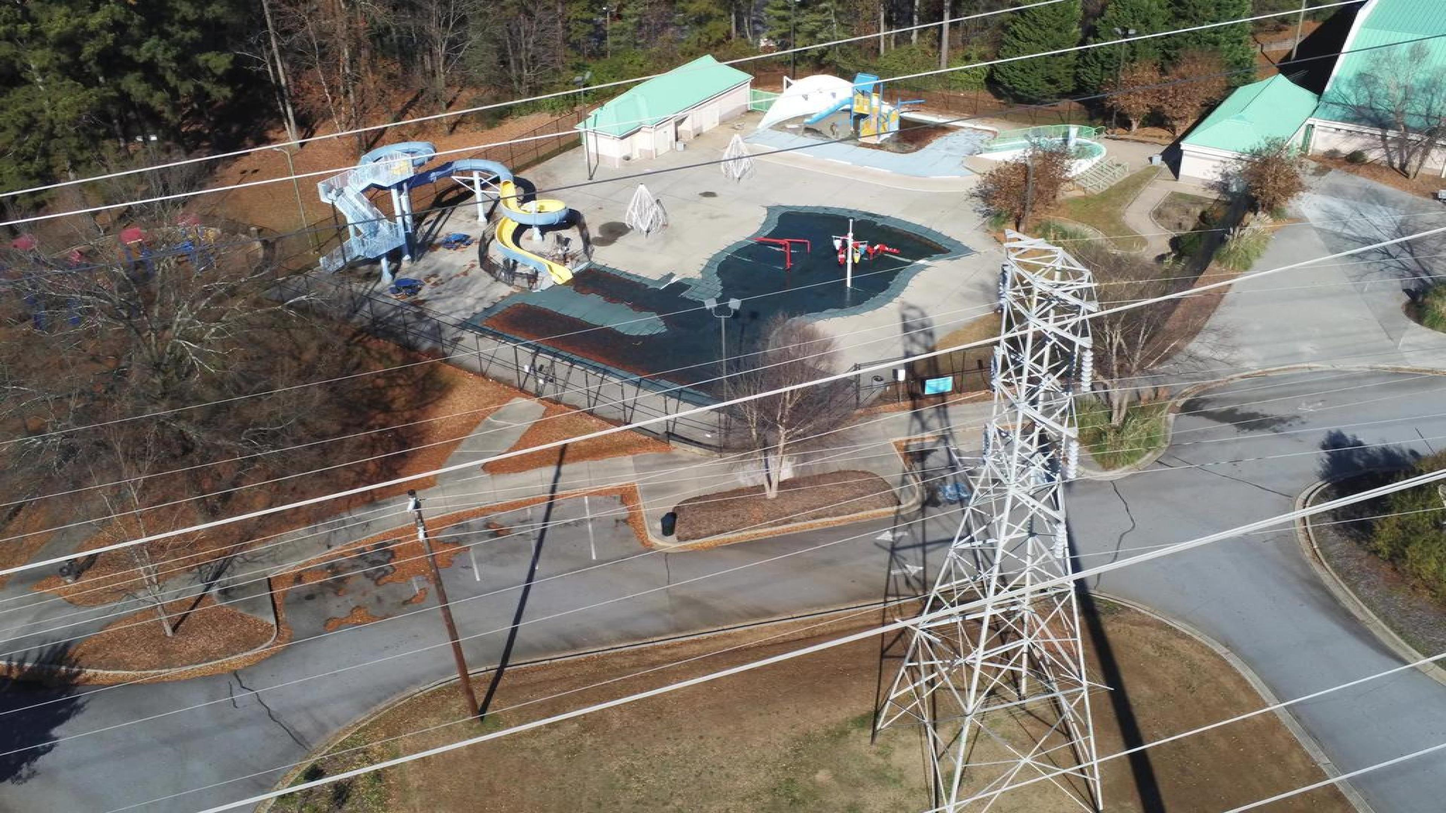power_tower: (869, 227, 1108, 813)
